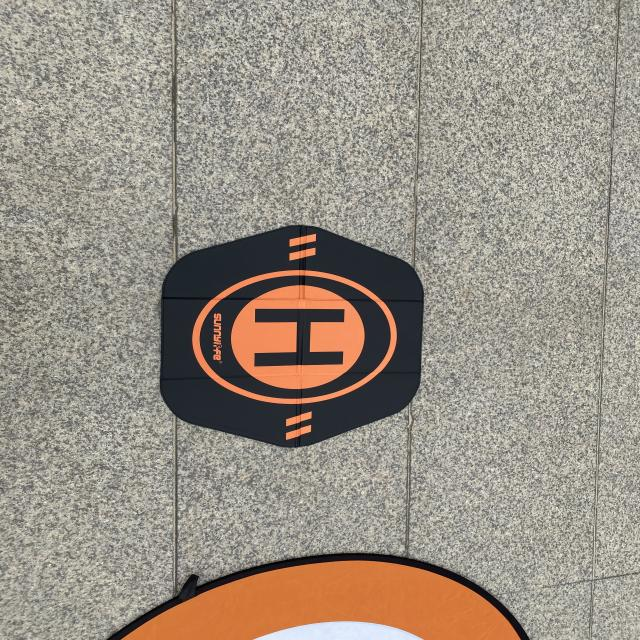helipad: (185, 266, 409, 411)
